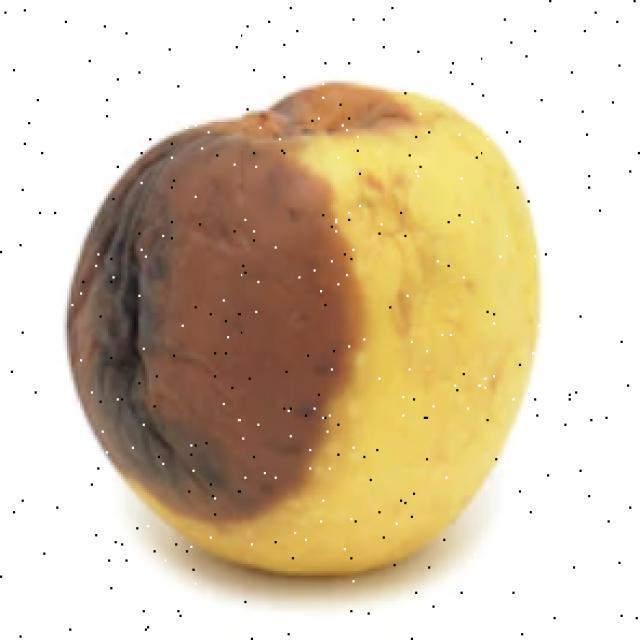Rotten: (73, 83, 530, 575)
